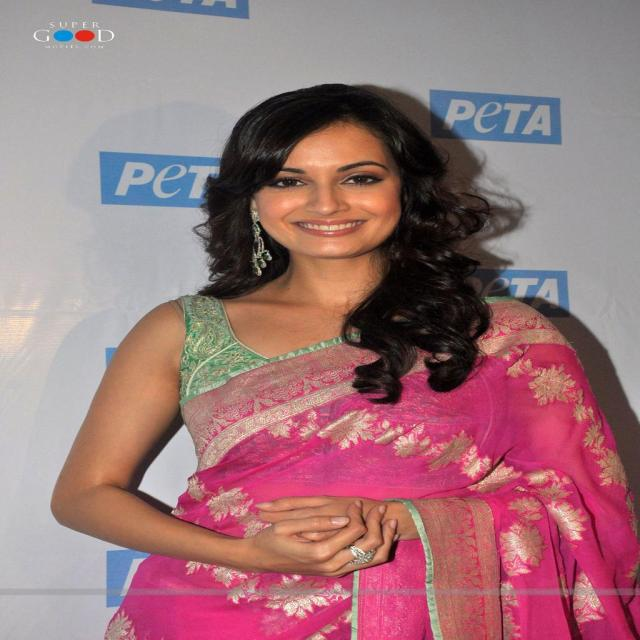Face: (233, 118, 425, 264)
